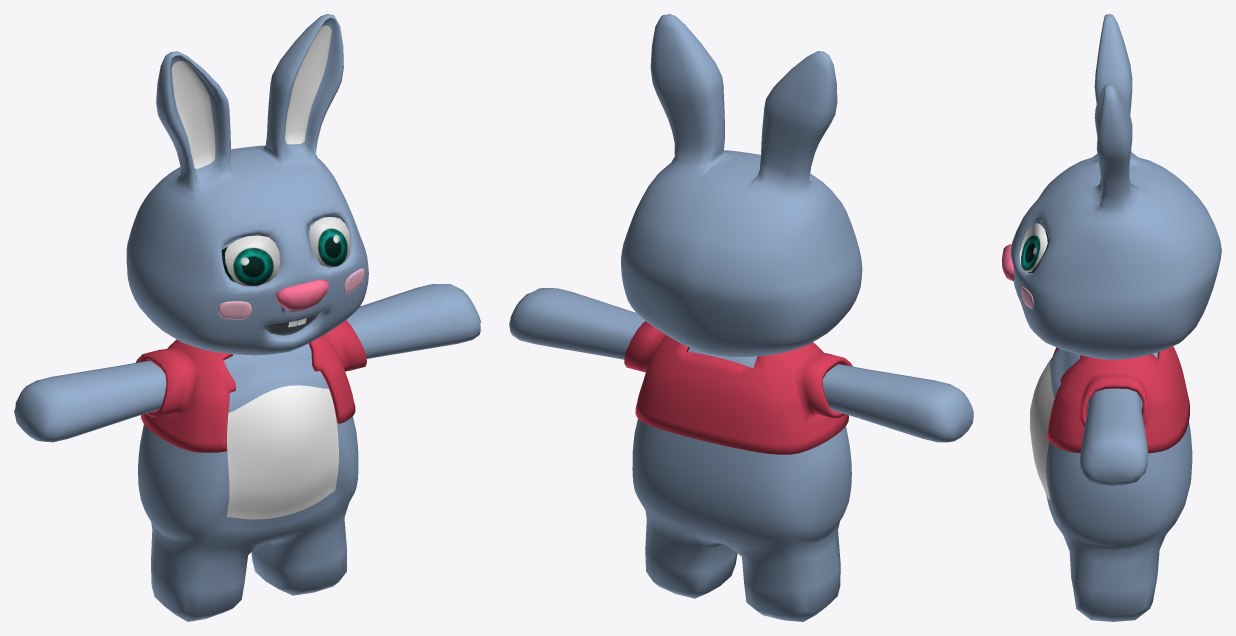
The model's file is bunny-character.fbx.
3 renders of one model, left to right at view 1: azimuth 30°, elevation 25°; view 2: azimuth 150°, elevation 25°; view 3: azimuth 270°, elevation 25°, orthographic. The views are drawn at different scales.
Parts seen in each view (by area): view 1: head.002; view 2: head.002; view 3: head.002.
Boxes of the visible parts, x1,y1,x2,y2 form: head.002: [14, 14, 480, 621]; head.002: [509, 14, 973, 621]; head.002: [1002, 14, 1221, 621].
Bounding box in the file's own units: 1991 × 2420 × 894.
10 materials, 1 textured.
